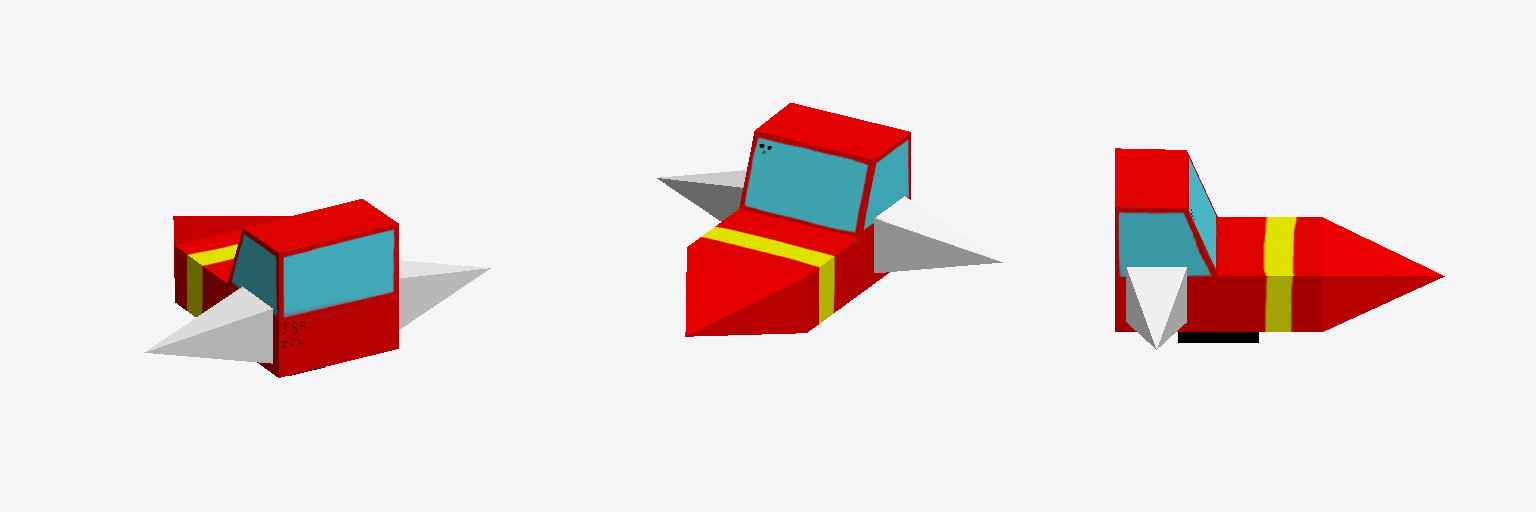
3 views of the same model, side by side, from view 1: azimuth 30°, elevation 25°; view 2: azimuth 150°, elevation 25°; view 3: azimuth 270°, elevation 25° (orthographic).
Parts seen in each view (by area): view 1: Spaceship; view 2: Spaceship; view 3: Spaceship.
Part boxes in pixels (x1,y1,x2,y2): Spaceship: (144, 199, 490, 377); Spaceship: (657, 103, 1002, 336); Spaceship: (1115, 148, 1444, 349).
Size of the model in its own units: 2.9 by 1.25 by 2.39.
Materials: 1 (1 with a texture image).